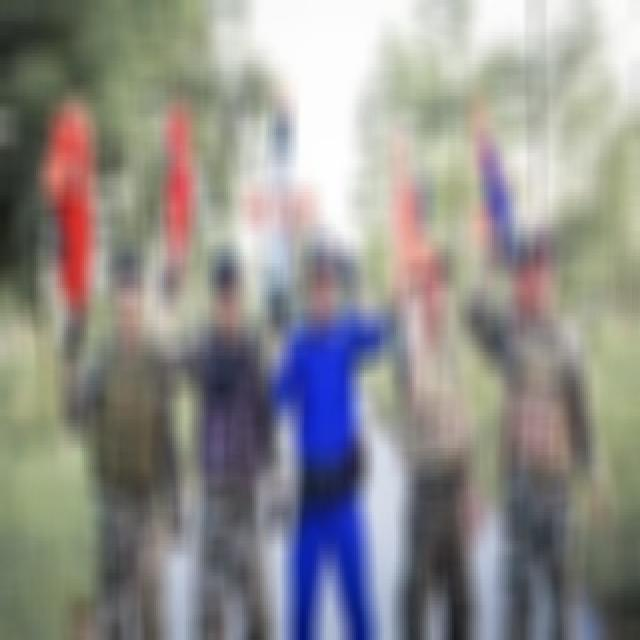Nerf gun: (238, 73, 318, 339), (34, 94, 102, 382), (464, 85, 532, 327), (382, 110, 438, 345), (151, 85, 193, 313)
